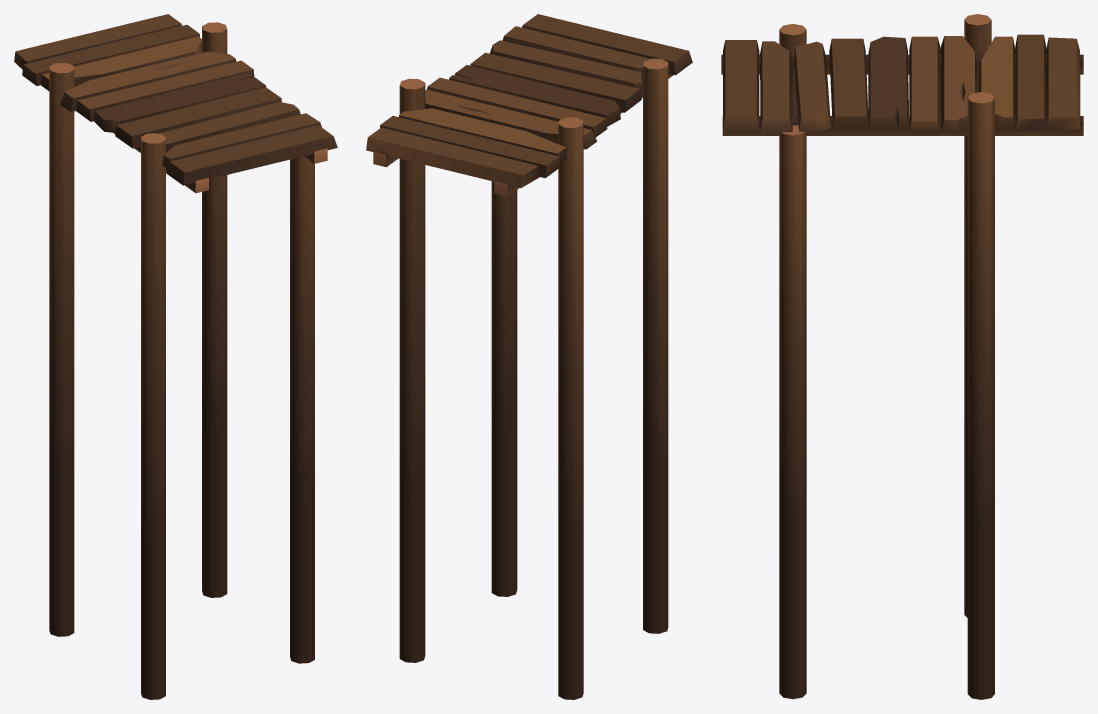
Rendered from Wooden_Pier_1B.fbx.
The picture shows the model from 3 angles, left to right: view 1: azimuth 30°, elevation 25°; view 2: azimuth 150°, elevation 25°; view 3: azimuth 270°, elevation 25°; orthographic projection. The views are drawn at different scales.
Parts seen in each view (by area): view 1: Wooden_Pier_1B; view 2: Wooden_Pier_1B; view 3: Wooden_Pier_1B.
Boxes of the visible parts, x1,y1,x2,y2 form: Wooden_Pier_1B: (14, 14, 337, 699); Wooden_Pier_1B: (366, 14, 692, 699); Wooden_Pier_1B: (721, 14, 1083, 699).
Bounding box in the file's own units: 237 × 725 × 399.
